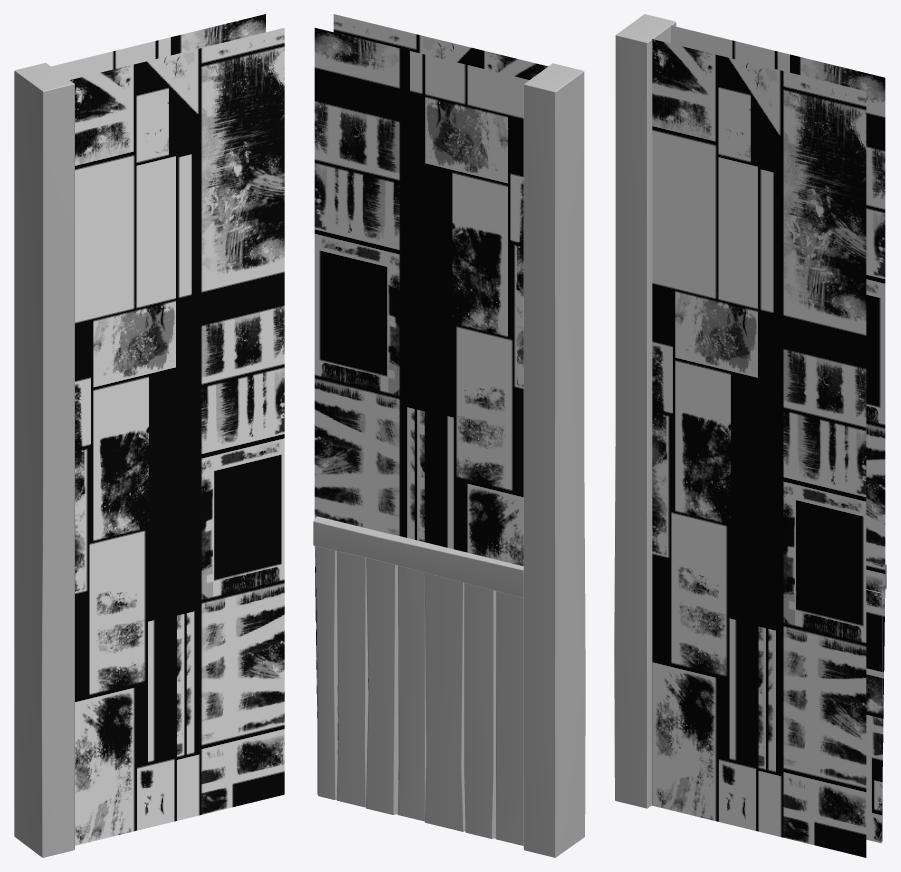
The model's file is SM_wall01_Wall_003.fbx.
The picture shows the model from 3 angles, left to right: view 1: azimuth 30°, elevation 25°; view 2: azimuth 150°, elevation 25°; view 3: azimuth 330°, elevation 25°; orthographic projection.
Visible parts, largest first — view 1: SM_wall01_Wall_003_LOD0; view 2: SM_wall01_Wall_003_LOD0; view 3: SM_wall01_Wall_003_LOD0.
Boxes of the visible parts, bbox=[...] form: SM_wall01_Wall_003_LOD0: bbox=[14, 14, 284, 857]; SM_wall01_Wall_003_LOD0: bbox=[313, 14, 585, 857]; SM_wall01_Wall_003_LOD0: bbox=[614, 14, 886, 857].
Bounding box in the file's own units: 152 × 31.01 × 450.
